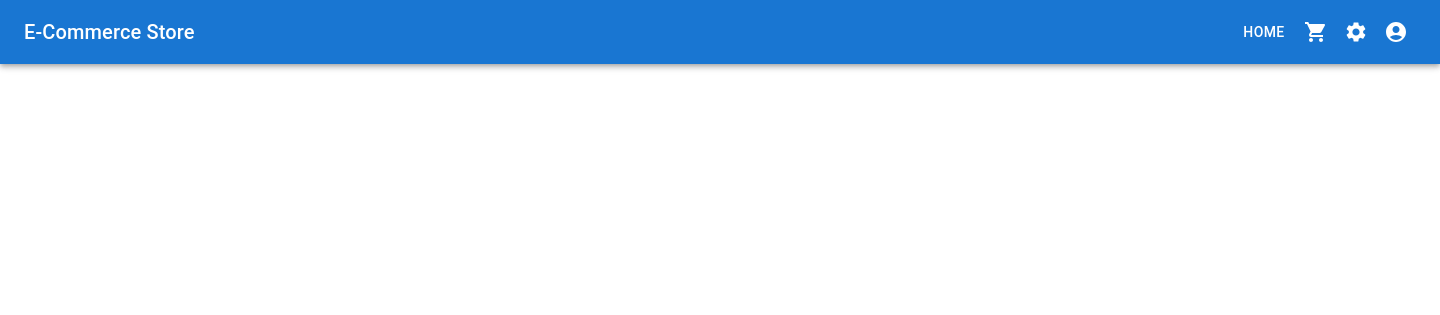
it: Header Component › shows admin options for admin users
This screenshot has width=1440, height=315.
// Click on user account icon
Click the button named "account of current user". click: coordinates (1396, 32)
box: x1=1376 y1=12 x2=1416 y2=52
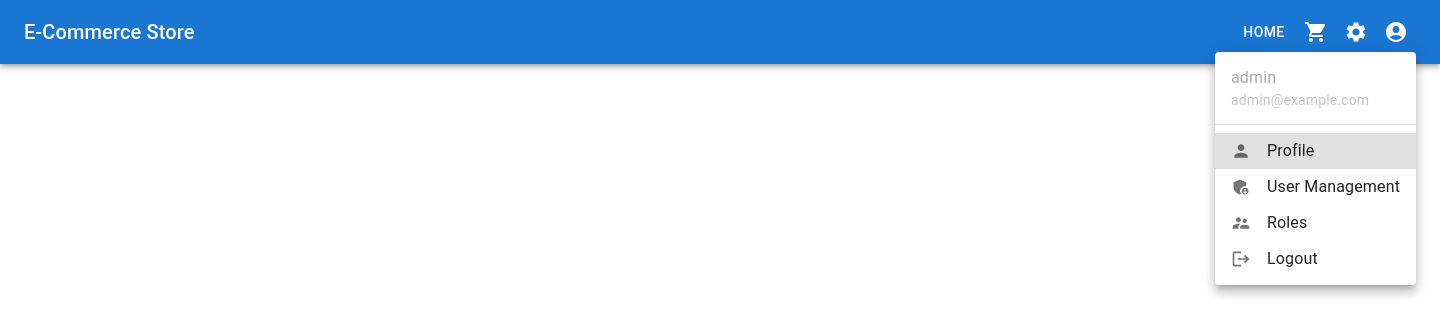
Expected: the text "User Management" is shown, x1=1267 y1=175 x2=1400 y2=199
Expected: the text "Roles" is shown, x1=1267 y1=213 x2=1307 y2=232
